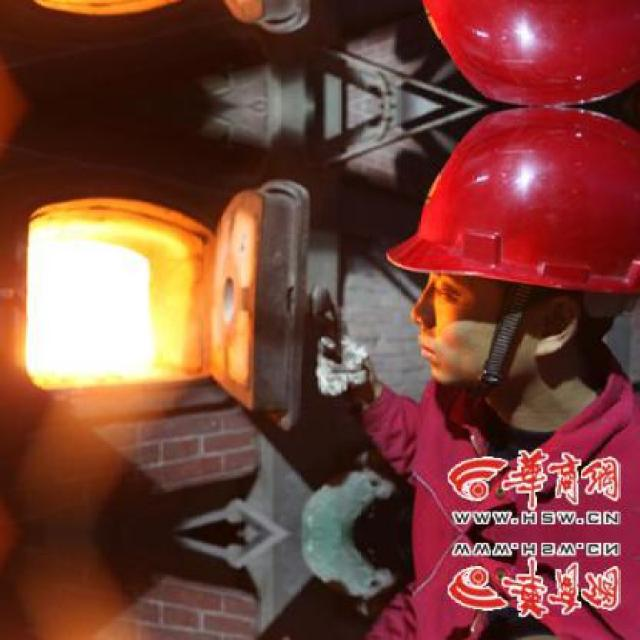helmet: (375, 110, 634, 416), (375, 0, 635, 103)
